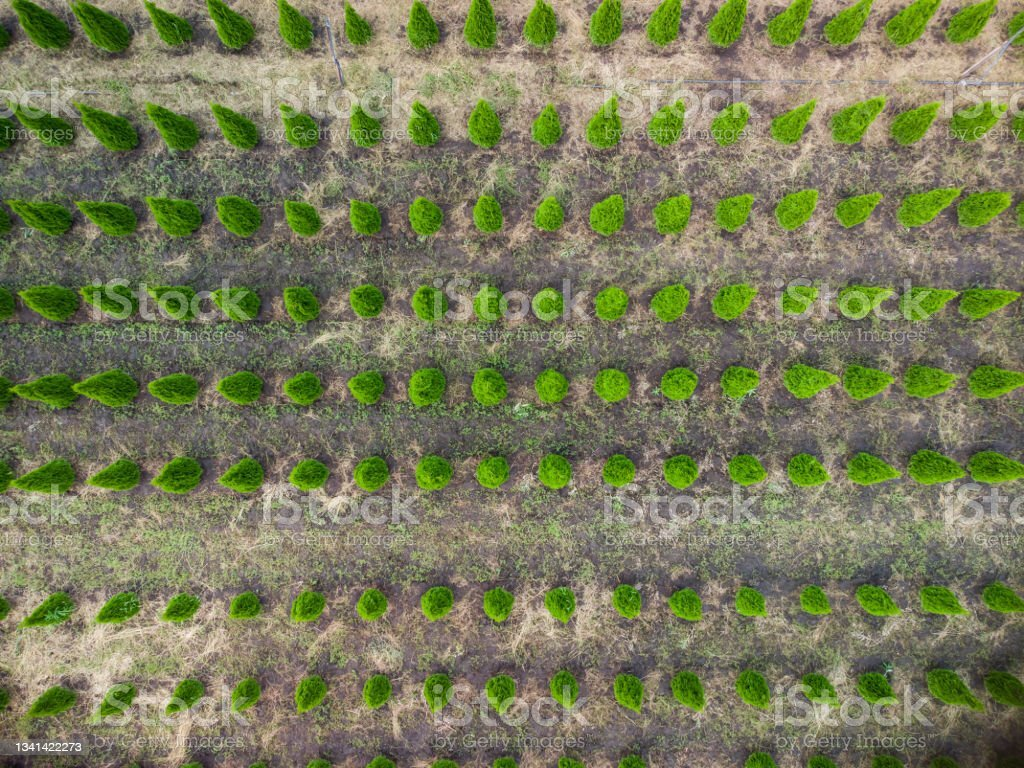TREE: (65, 1, 134, 57), (74, 98, 136, 156), (779, 350, 843, 403), (13, 582, 73, 635), (8, 1, 72, 50), (829, 94, 886, 147), (138, 4, 198, 54), (13, 100, 72, 150), (900, 181, 964, 227), (200, 1, 259, 50), (77, 369, 143, 412), (10, 194, 70, 241), (13, 682, 83, 721), (148, 100, 199, 151), (145, 453, 208, 494), (21, 278, 79, 322), (208, 102, 260, 150), (928, 671, 985, 714), (893, 98, 940, 150), (92, 589, 148, 631), (147, 363, 199, 408), (955, 98, 1009, 141), (771, 187, 819, 235), (765, 1, 812, 50), (885, 1, 939, 43), (17, 372, 75, 411), (915, 584, 973, 623), (838, 364, 899, 401), (703, 1, 749, 50), (148, 197, 205, 235), (771, 97, 816, 145), (273, 1, 317, 50), (961, 187, 1012, 229), (12, 460, 73, 495), (980, 664, 1024, 712), (853, 582, 903, 624), (521, 1, 561, 53), (467, 98, 504, 154), (970, 450, 1024, 488), (827, 1, 873, 45), (214, 197, 264, 237), (795, 668, 841, 711), (82, 199, 135, 236), (968, 362, 1024, 397), (82, 281, 133, 319), (588, 95, 622, 152), (274, 105, 320, 147), (166, 673, 205, 722), (649, 95, 684, 149), (908, 452, 967, 484), (99, 679, 139, 726), (150, 283, 198, 322), (482, 663, 521, 711), (948, 1, 996, 40), (669, 666, 707, 715), (958, 289, 1022, 318), (896, 287, 953, 319), (712, 192, 754, 234), (528, 454, 573, 493), (229, 667, 268, 712), (905, 365, 961, 395), (586, 1, 623, 46), (339, 1, 375, 47), (408, 1, 441, 51), (408, 366, 446, 409), (837, 191, 880, 229), (710, 283, 754, 320), (734, 668, 770, 713), (850, 457, 904, 487), (466, 1, 498, 51), (653, 194, 691, 236), (216, 372, 265, 404), (213, 286, 259, 320), (726, 452, 766, 491), (854, 672, 897, 708), (588, 194, 624, 237), (713, 101, 748, 145), (222, 456, 262, 494), (350, 102, 383, 148), (720, 364, 762, 400), (836, 289, 892, 316), (284, 372, 327, 407), (789, 453, 829, 490), (607, 582, 643, 623), (86, 457, 132, 489), (408, 102, 438, 150), (471, 282, 504, 325), (648, 1, 678, 48), (282, 200, 321, 236), (481, 586, 517, 625), (664, 454, 700, 492), (594, 364, 630, 402), (651, 285, 687, 323), (532, 106, 563, 150), (793, 582, 833, 616), (728, 586, 766, 621), (349, 366, 382, 406), (407, 195, 438, 237), (284, 285, 320, 321), (472, 369, 508, 405), (351, 455, 388, 490), (420, 585, 455, 622), (290, 587, 324, 625), (295, 669, 323, 714), (661, 366, 697, 401), (531, 368, 565, 405), (356, 585, 387, 625), (668, 587, 702, 623), (545, 586, 577, 624), (985, 584, 1024, 615), (615, 673, 645, 713), (601, 453, 635, 488), (551, 671, 581, 709), (351, 199, 380, 238), (293, 458, 326, 492), (424, 669, 450, 712), (412, 460, 451, 488), (228, 591, 261, 624), (347, 285, 381, 317), (472, 455, 508, 485), (778, 287, 815, 316), (166, 593, 201, 623), (364, 670, 389, 712), (414, 285, 443, 321), (595, 287, 627, 319), (536, 196, 562, 234), (536, 286, 561, 324), (474, 197, 501, 232)
